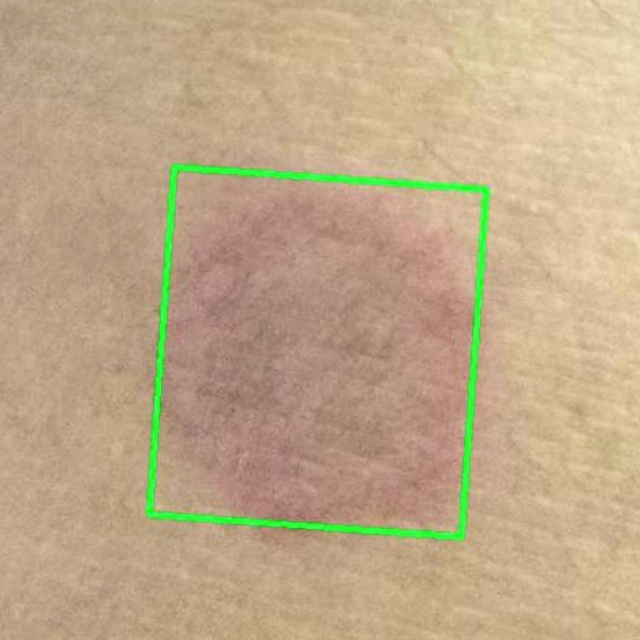Eczema: (149, 168, 486, 537)
